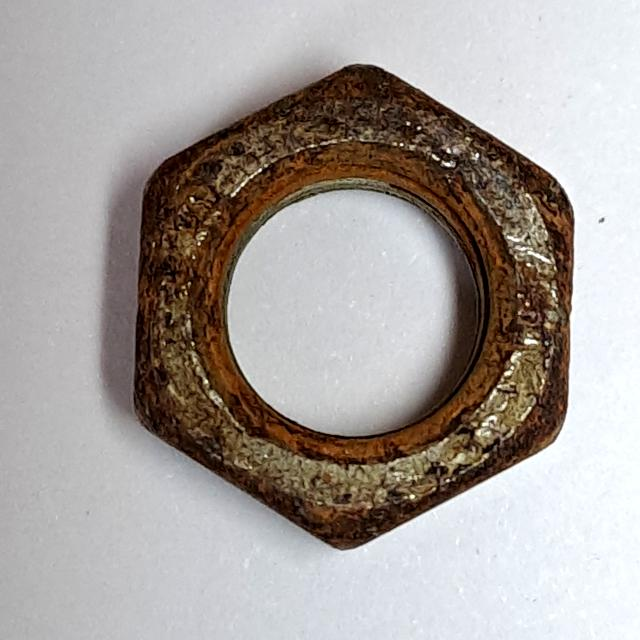Rust: (117, 53, 583, 564)
